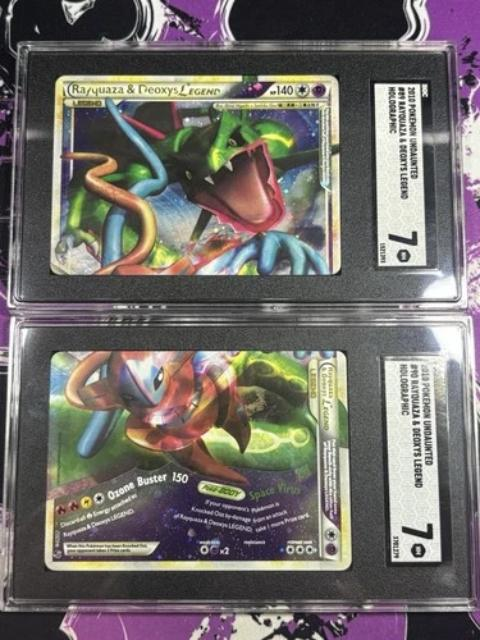Card: (40, 346, 356, 575), (46, 71, 345, 279)
Name: (67, 81, 225, 101), (318, 362, 338, 435)
